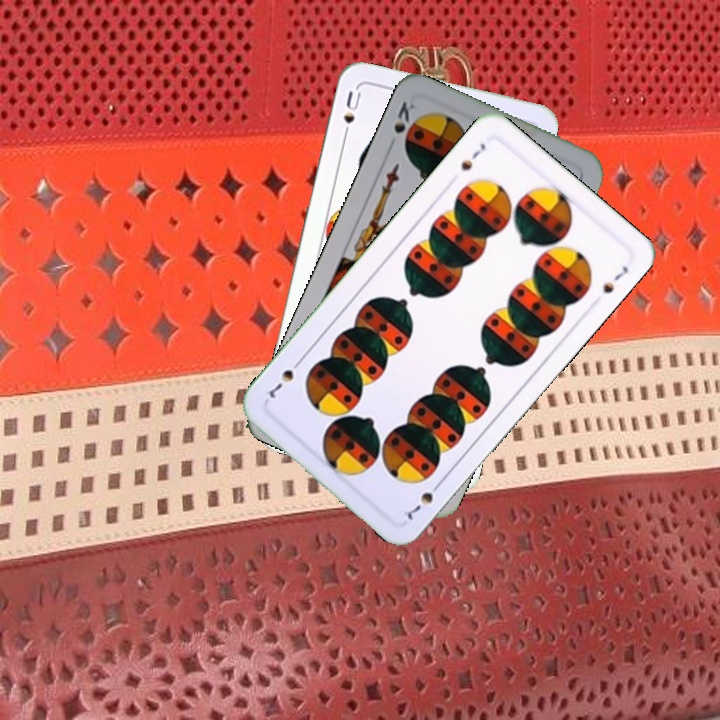S7: (399, 476, 445, 525), (456, 138, 489, 173)
SK: (389, 96, 418, 136)
SU: (339, 85, 364, 144)
